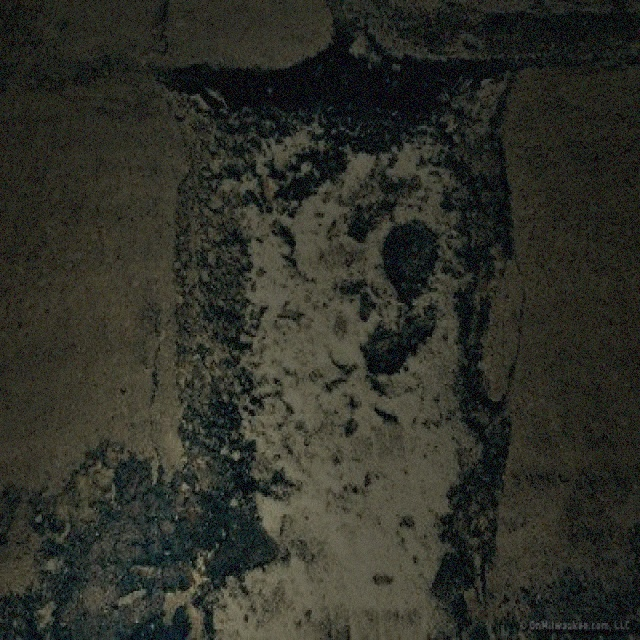pothole: (142, 32, 525, 638)
